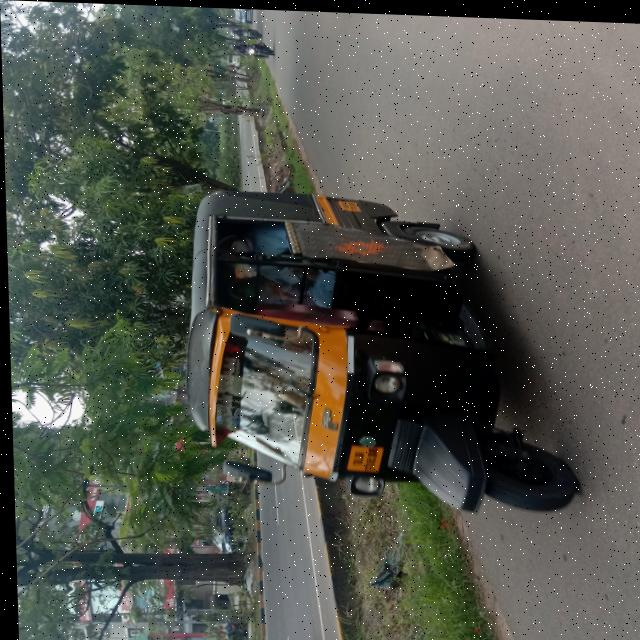plate: (338, 439, 383, 474)
